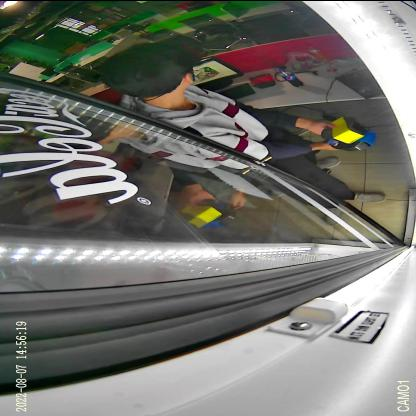blue: (327, 129, 377, 151)
yellow: (320, 115, 366, 143)
